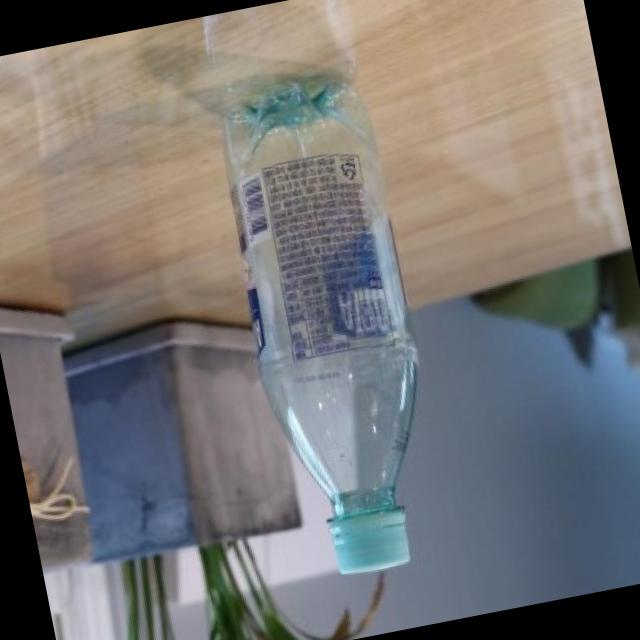plastic_bottle: (204, 67, 460, 586)
